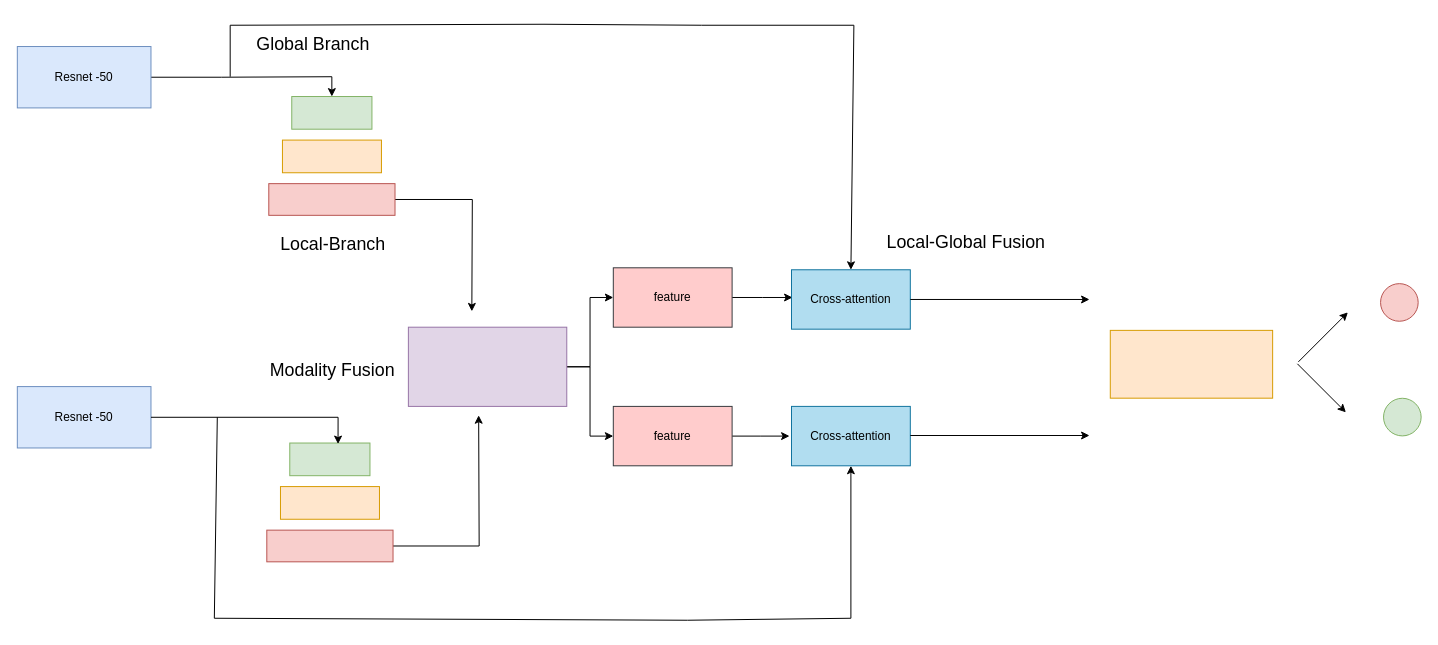
The diagram is 1438 pixels wide and 645 high, and some of its shapes have lost their labels. The centre of each missing label's shape, as x and y in pixels:
Classification Modal: (1191,363)
Multi-modal transformer: (487,366)
